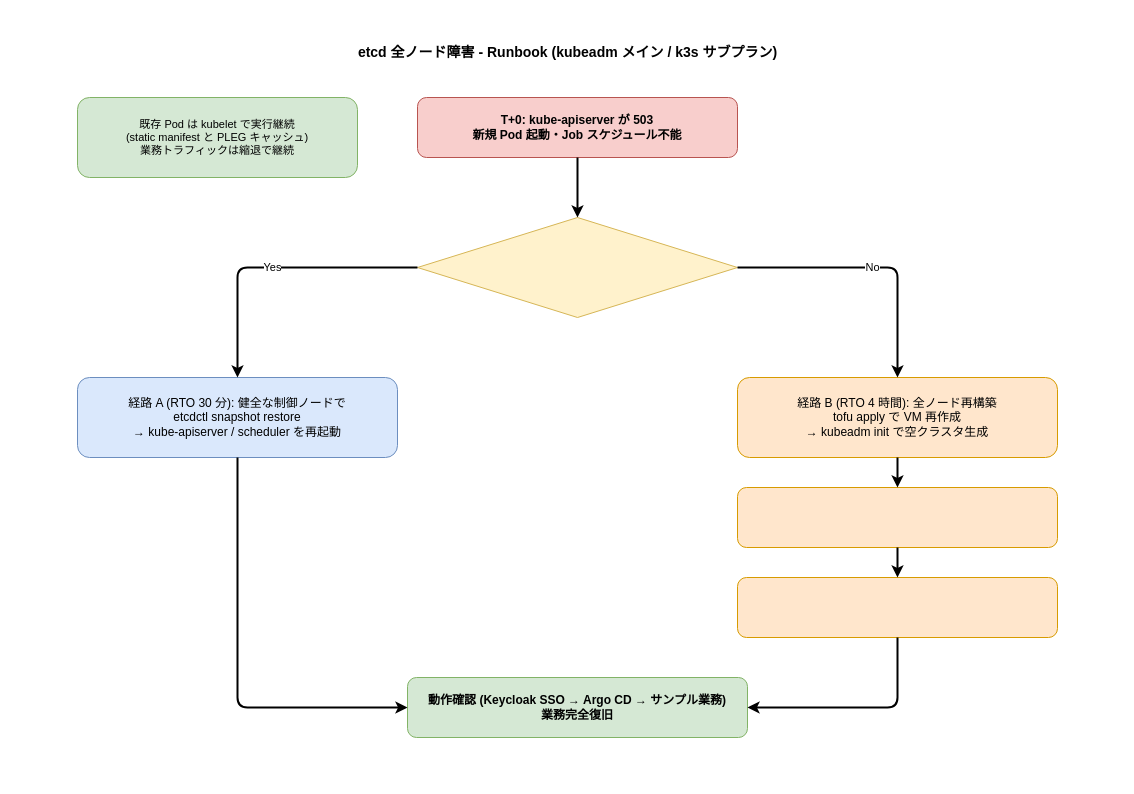
This 1134x794 diagram has some shape labels left out. The centre of each missing label's shape, as x and y in pixels:
"T+2h: Argo CD インストール Git から全マニフェストを同期" goes at pixel 897 517.
"T+3h: PostgreSQL を barman-cloud から復元 (Keycloak / Backstage / Harbor が起動)" goes at pixel 897 607.
"直近 24h 以内のスナップショット が MinIO 上に存在するか?" goes at pixel 577 267.
